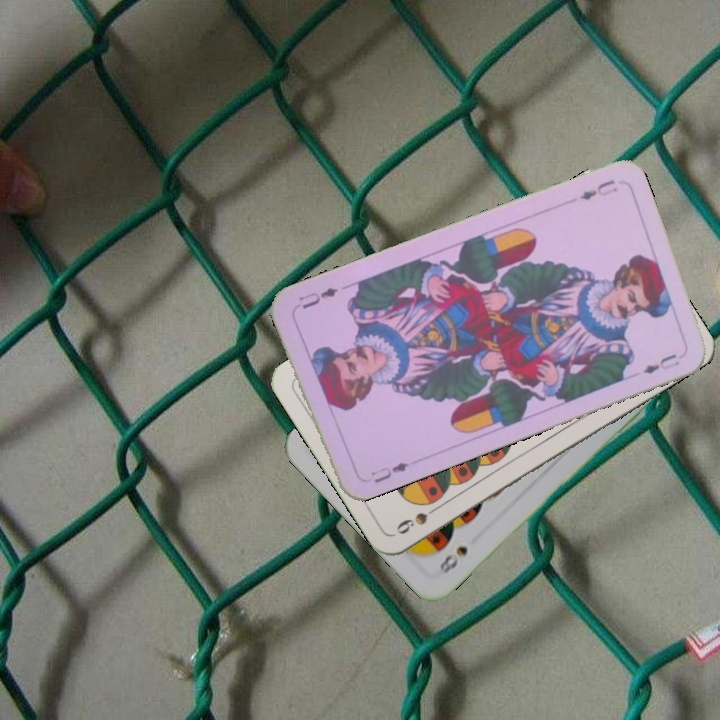EU: (366, 458, 412, 486), (576, 176, 620, 203)
S8: (435, 542, 471, 577)
S9: (392, 500, 445, 537)
